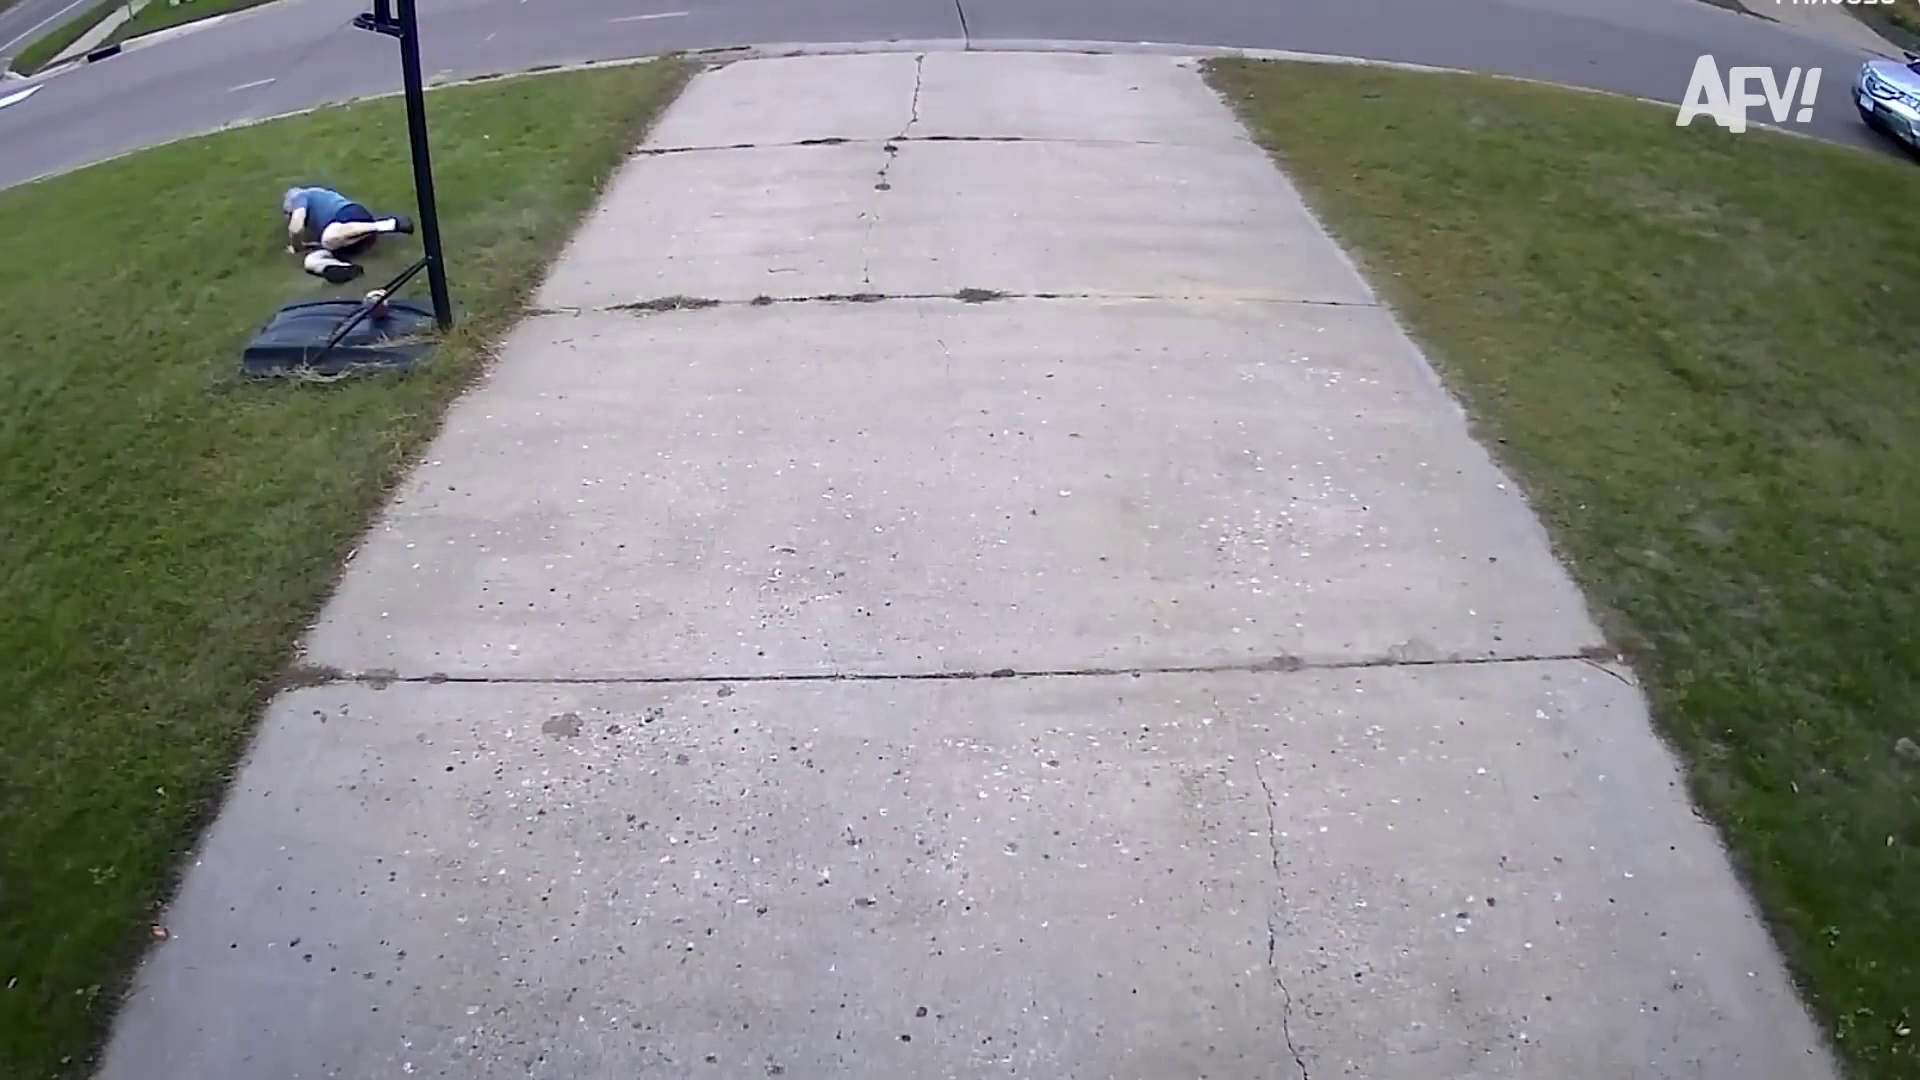fall: (255, 164, 440, 332)
